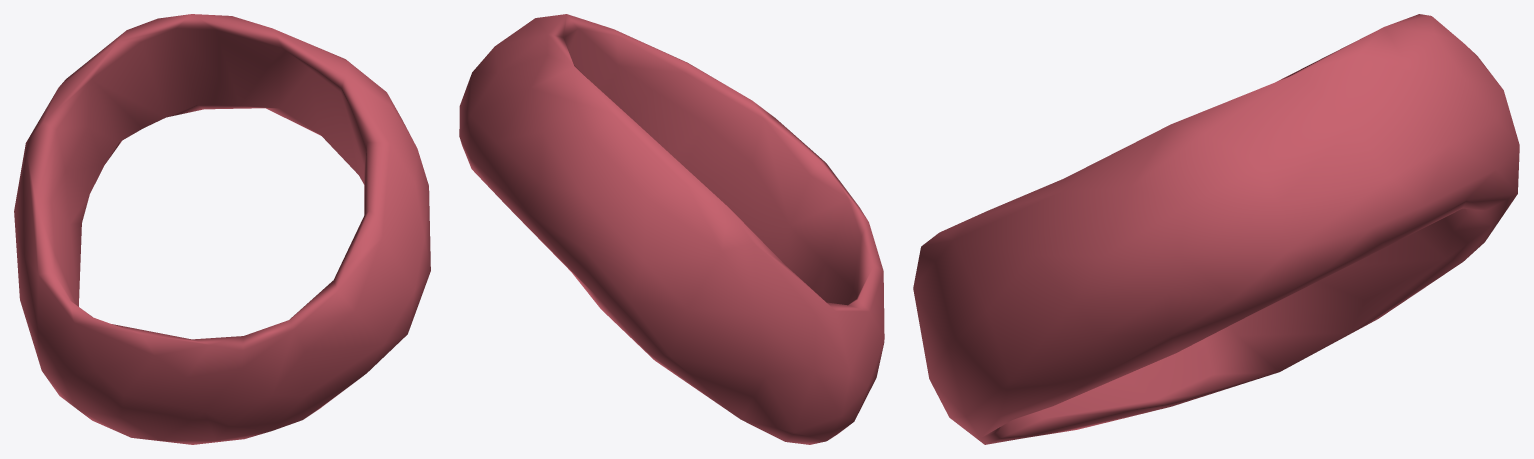
3 views of the same model, side by side, from view 1: azimuth 30°, elevation 25°; view 2: azimuth 150°, elevation 25°; view 3: azimuth 270°, elevation 25° (orthographic). The views are drawn at different scales.
Visible parts, largest first — view 1: 左侧总腱环; view 2: 左侧总腱环; view 3: 左侧总腱环.
Boxes of the visible parts, box(x1,y1,x2,y2) form: 左侧总腱环: box(14, 14, 430, 444); 左侧总腱环: box(459, 14, 884, 444); 左侧总腱环: box(913, 14, 1519, 444).
Size of the model in its own units: 0.00922 by 0.0086 by 0.00987.
